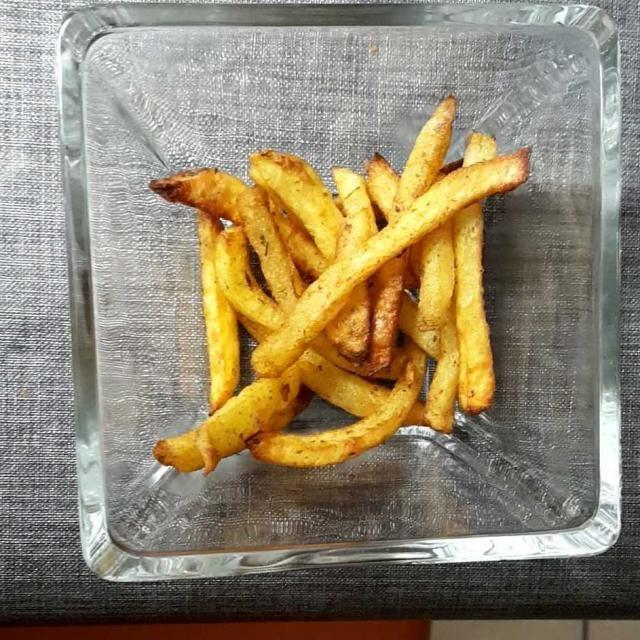chips-french-fries: (152, 97, 526, 469)
